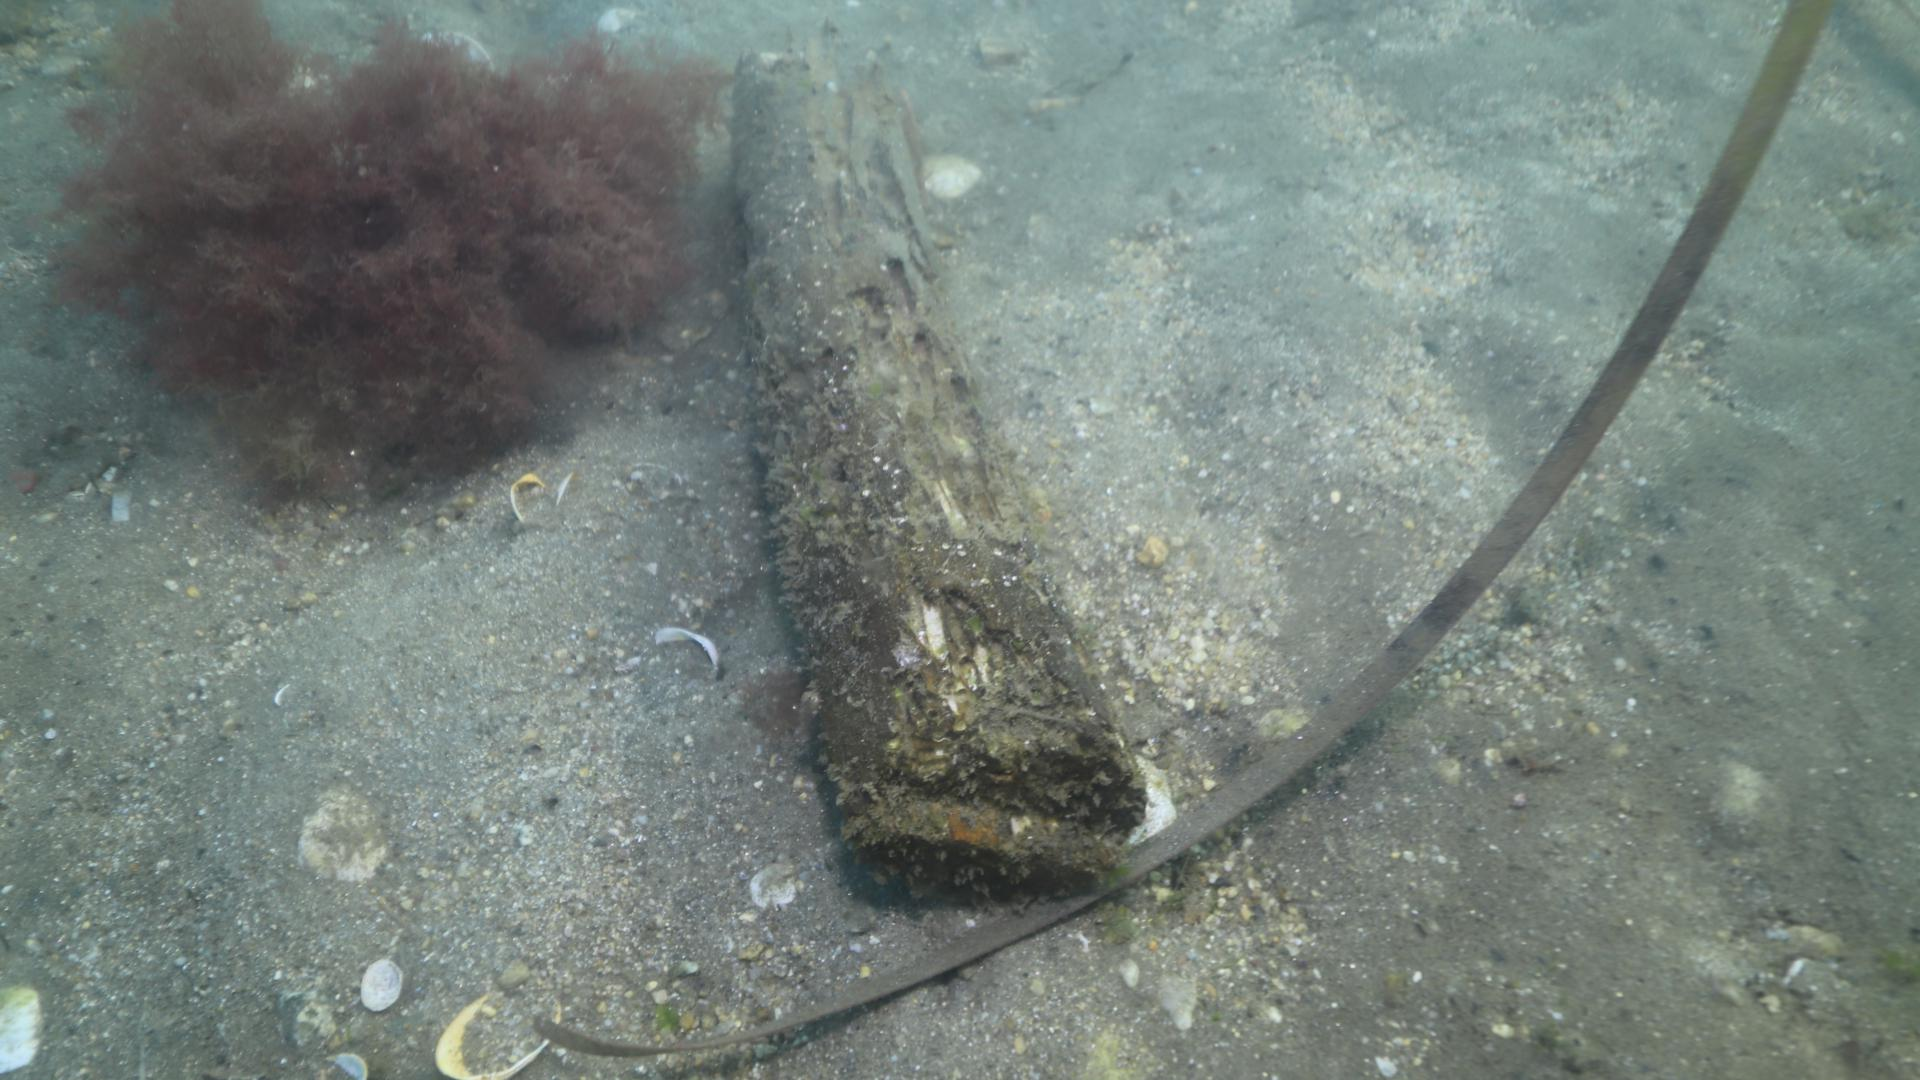wood: (731, 49, 1145, 905)
